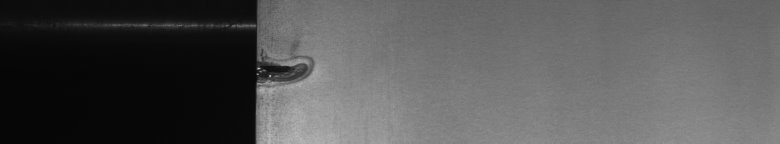hb: (268, 7, 320, 106)
